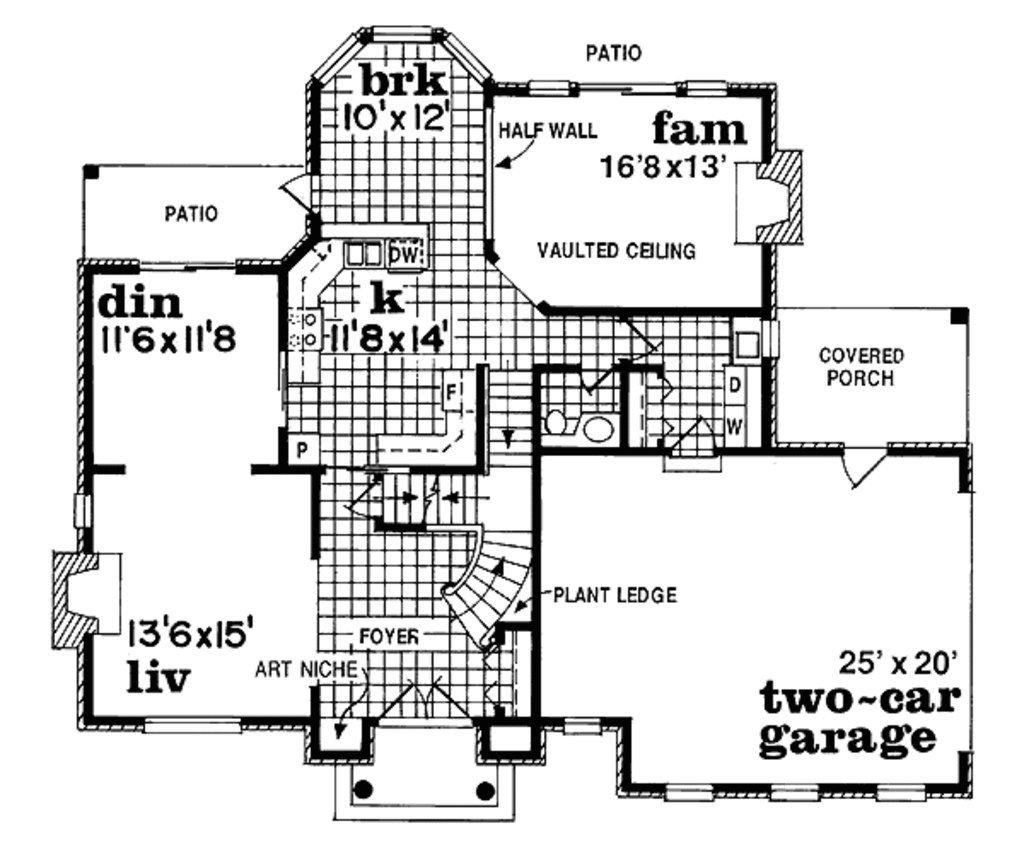door: (836, 442, 890, 486)
stairs: (381, 369, 538, 534), (428, 528, 529, 646)
twin_sink: (340, 237, 390, 273)
windows: (306, 24, 488, 94), (522, 78, 729, 100), (125, 253, 240, 279), (139, 710, 243, 737), (764, 778, 828, 806), (654, 780, 716, 808), (872, 778, 930, 803)
